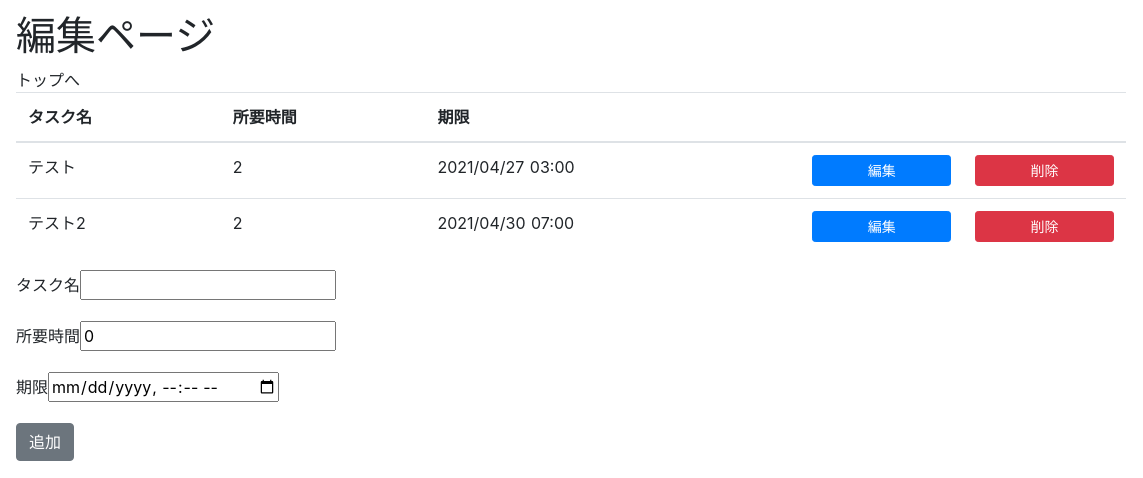
編集ページのテスト › 編集押したとき表示はうまく行ってるかな？
The image size is (1143, 478).
Click the button "編集" in the row of "2021/04/27 03:00": [882, 170] box [812,155,951,186]
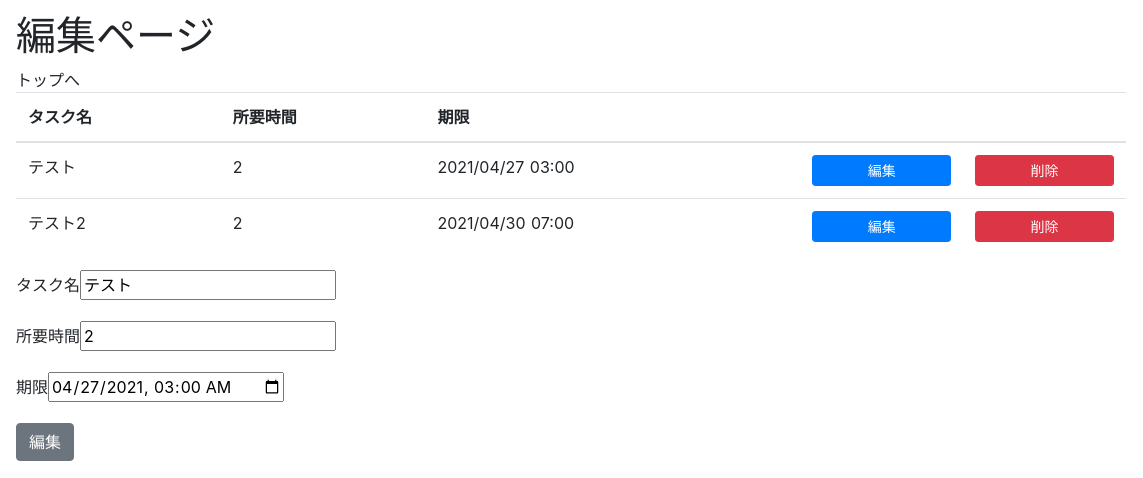
Expected: the field with id "name" holds "テスト", [80,270,336,300]
Expected: the number field with id "hours" holds "2", [80,321,336,351]
Expected: the field with id "limit" holds "2021-04-27T03:00", [48,372,284,402]
